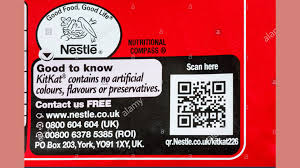qr_code: (172, 76, 231, 133)
